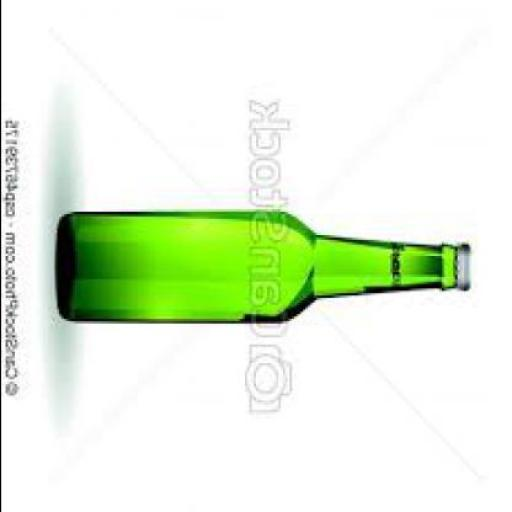glass: (56, 214, 458, 326)
metal: (458, 246, 472, 294)
